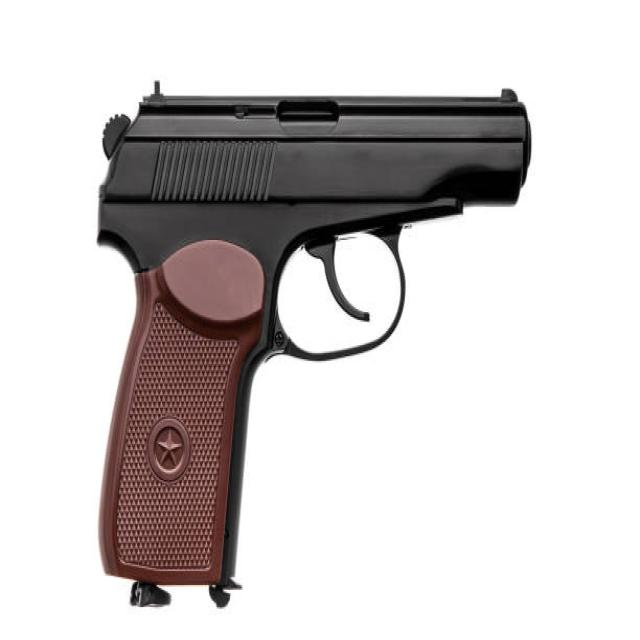pistol: (90, 74, 541, 622)
